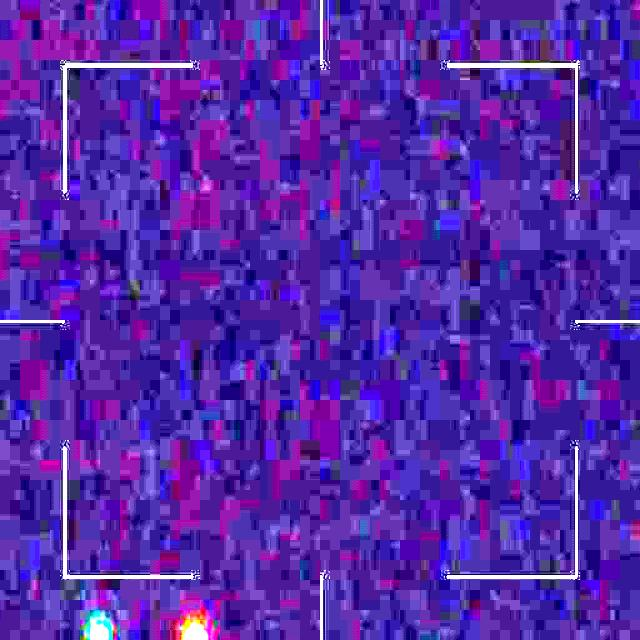bird: (86, 620, 208, 640)
